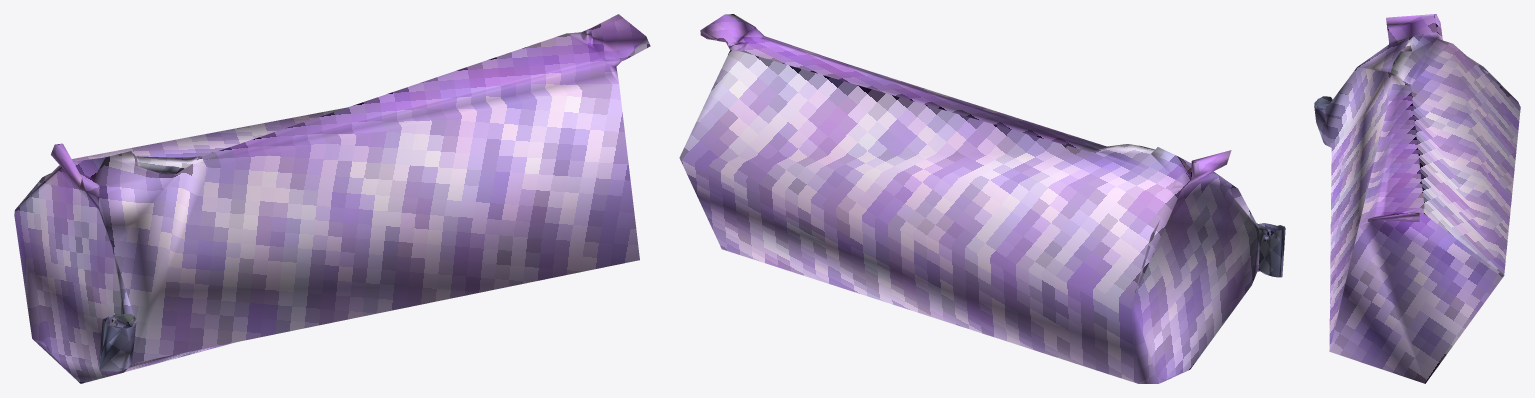
Rendered from Wishbone_Pencil_Case-low.glb.
3 views of the same model, side by side, from view 1: azimuth 30°, elevation 25°; view 2: azimuth 150°, elevation 25°; view 3: azimuth 270°, elevation 25° (orthographic). The views are drawn at different scales.
Visible parts, largest first — view 1: Wishbone_Pencil_Case; view 2: Wishbone_Pencil_Case; view 3: Wishbone_Pencil_Case.
Boxes of the visible parts, x1=… form: Wishbone_Pencil_Case: x1=14, y1=14, x2=650, y2=383; Wishbone_Pencil_Case: x1=679, y1=14, x2=1285, y2=383; Wishbone_Pencil_Case: x1=1314, y1=14, x2=1520, y2=383.
Size of the model in its own units: 0.2203 by 0.0872 by 0.089.
1 material, 1 textured.
